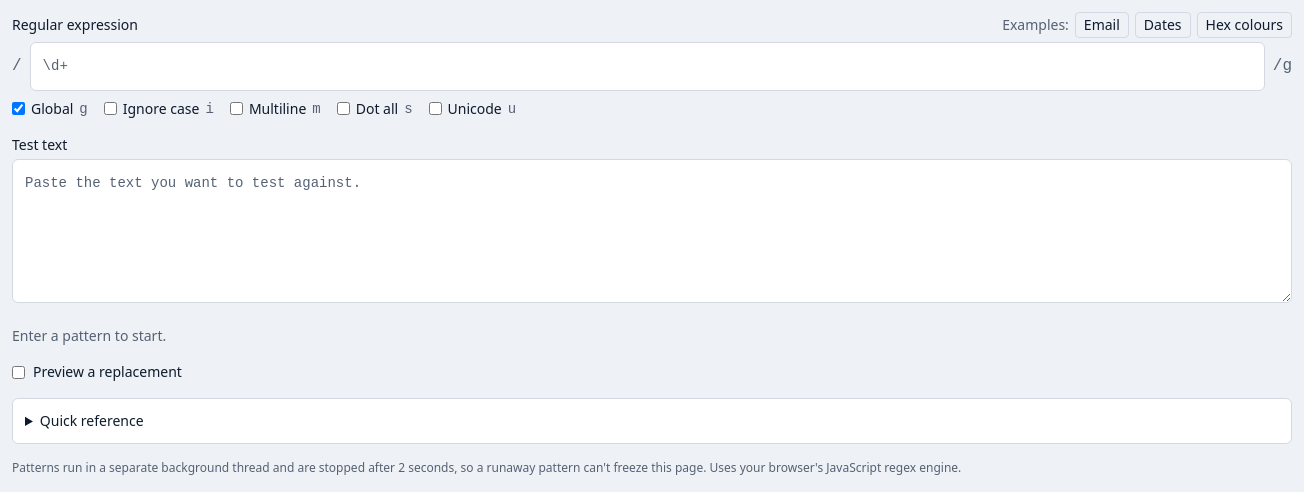
Test: Regex tool › toggling a flag updates the displayed flags
The image size is (1304, 492).
Click the checkbox labelled "Ignore case i" at (110, 109), box x1=104 y1=102 x2=117 y2=115
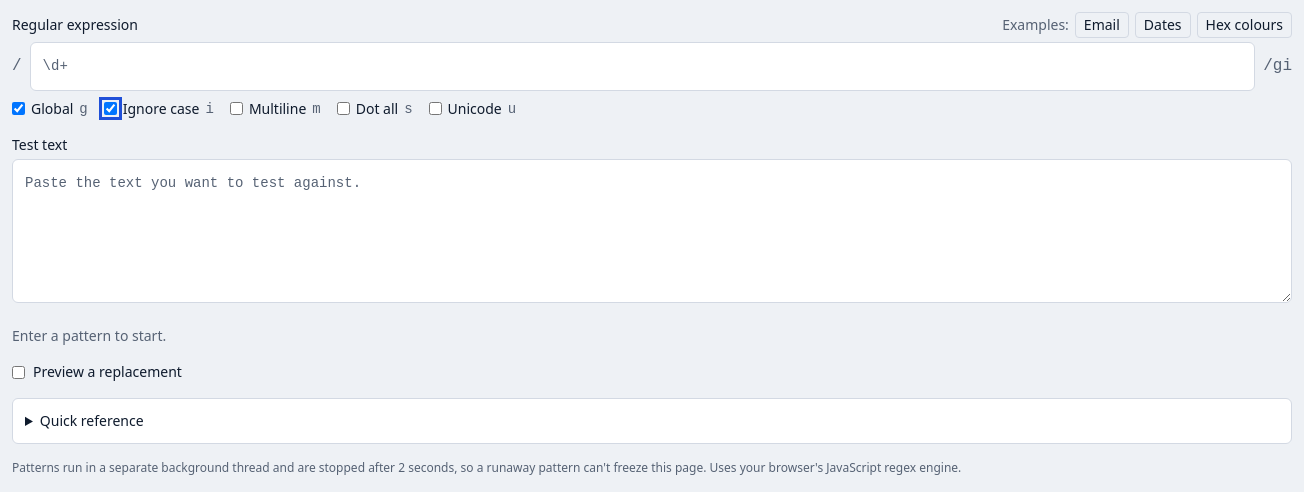
Expected: the text "/gi" is shown, x1=1263 y1=54 x2=1292 y2=79
